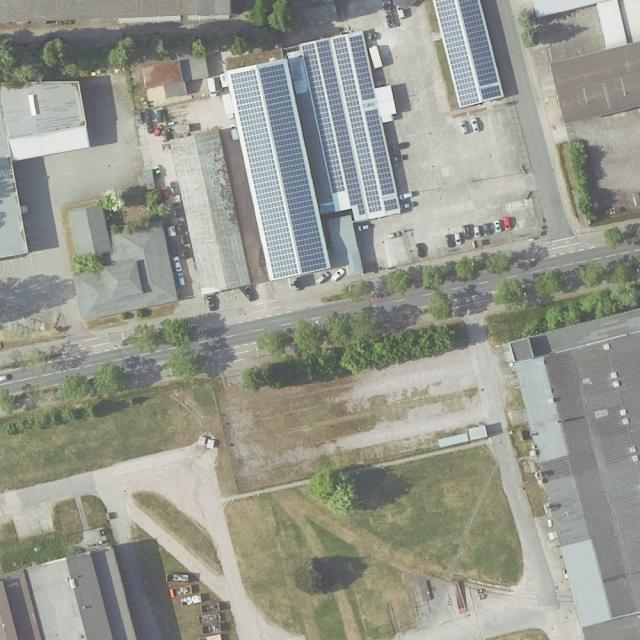PV: (230, 69, 298, 280), (259, 63, 327, 273), (317, 40, 366, 214), (333, 36, 381, 212), (301, 43, 344, 194), (435, 0, 480, 106), (459, 0, 497, 86), (365, 108, 395, 196), (349, 35, 375, 100), (479, 85, 502, 99), (383, 198, 399, 211)
